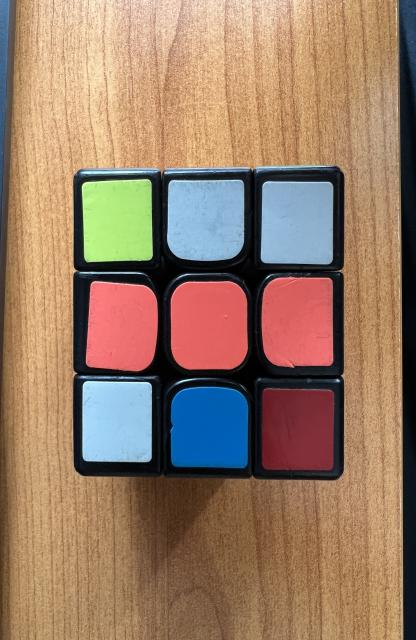Blue: (170, 386, 248, 469)
Orange: (171, 281, 248, 370), (261, 278, 334, 368), (86, 281, 158, 371)
Red: (262, 389, 334, 470)
White: (167, 180, 245, 261), (261, 181, 334, 265), (82, 381, 152, 462)
Yellow: (82, 179, 153, 262)
